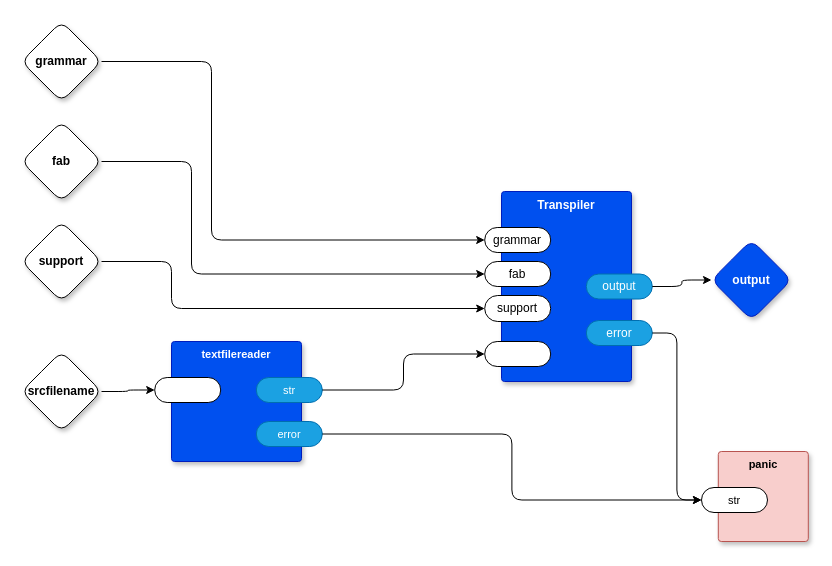
Image size: 832x566. Some labels were removed from this diagram. Here are the shapes that lost their labels. From the top down, the centre of each, then its label:
At point (517, 353): "stdin".
At point (187, 389): "filename".
